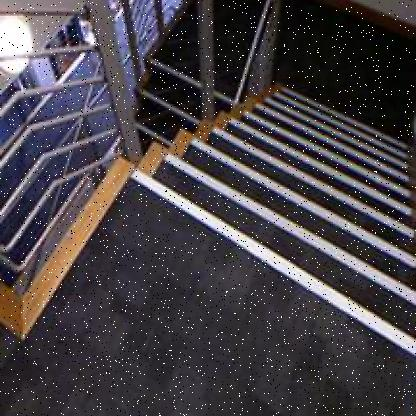stair_down: (116, 90, 416, 356)
